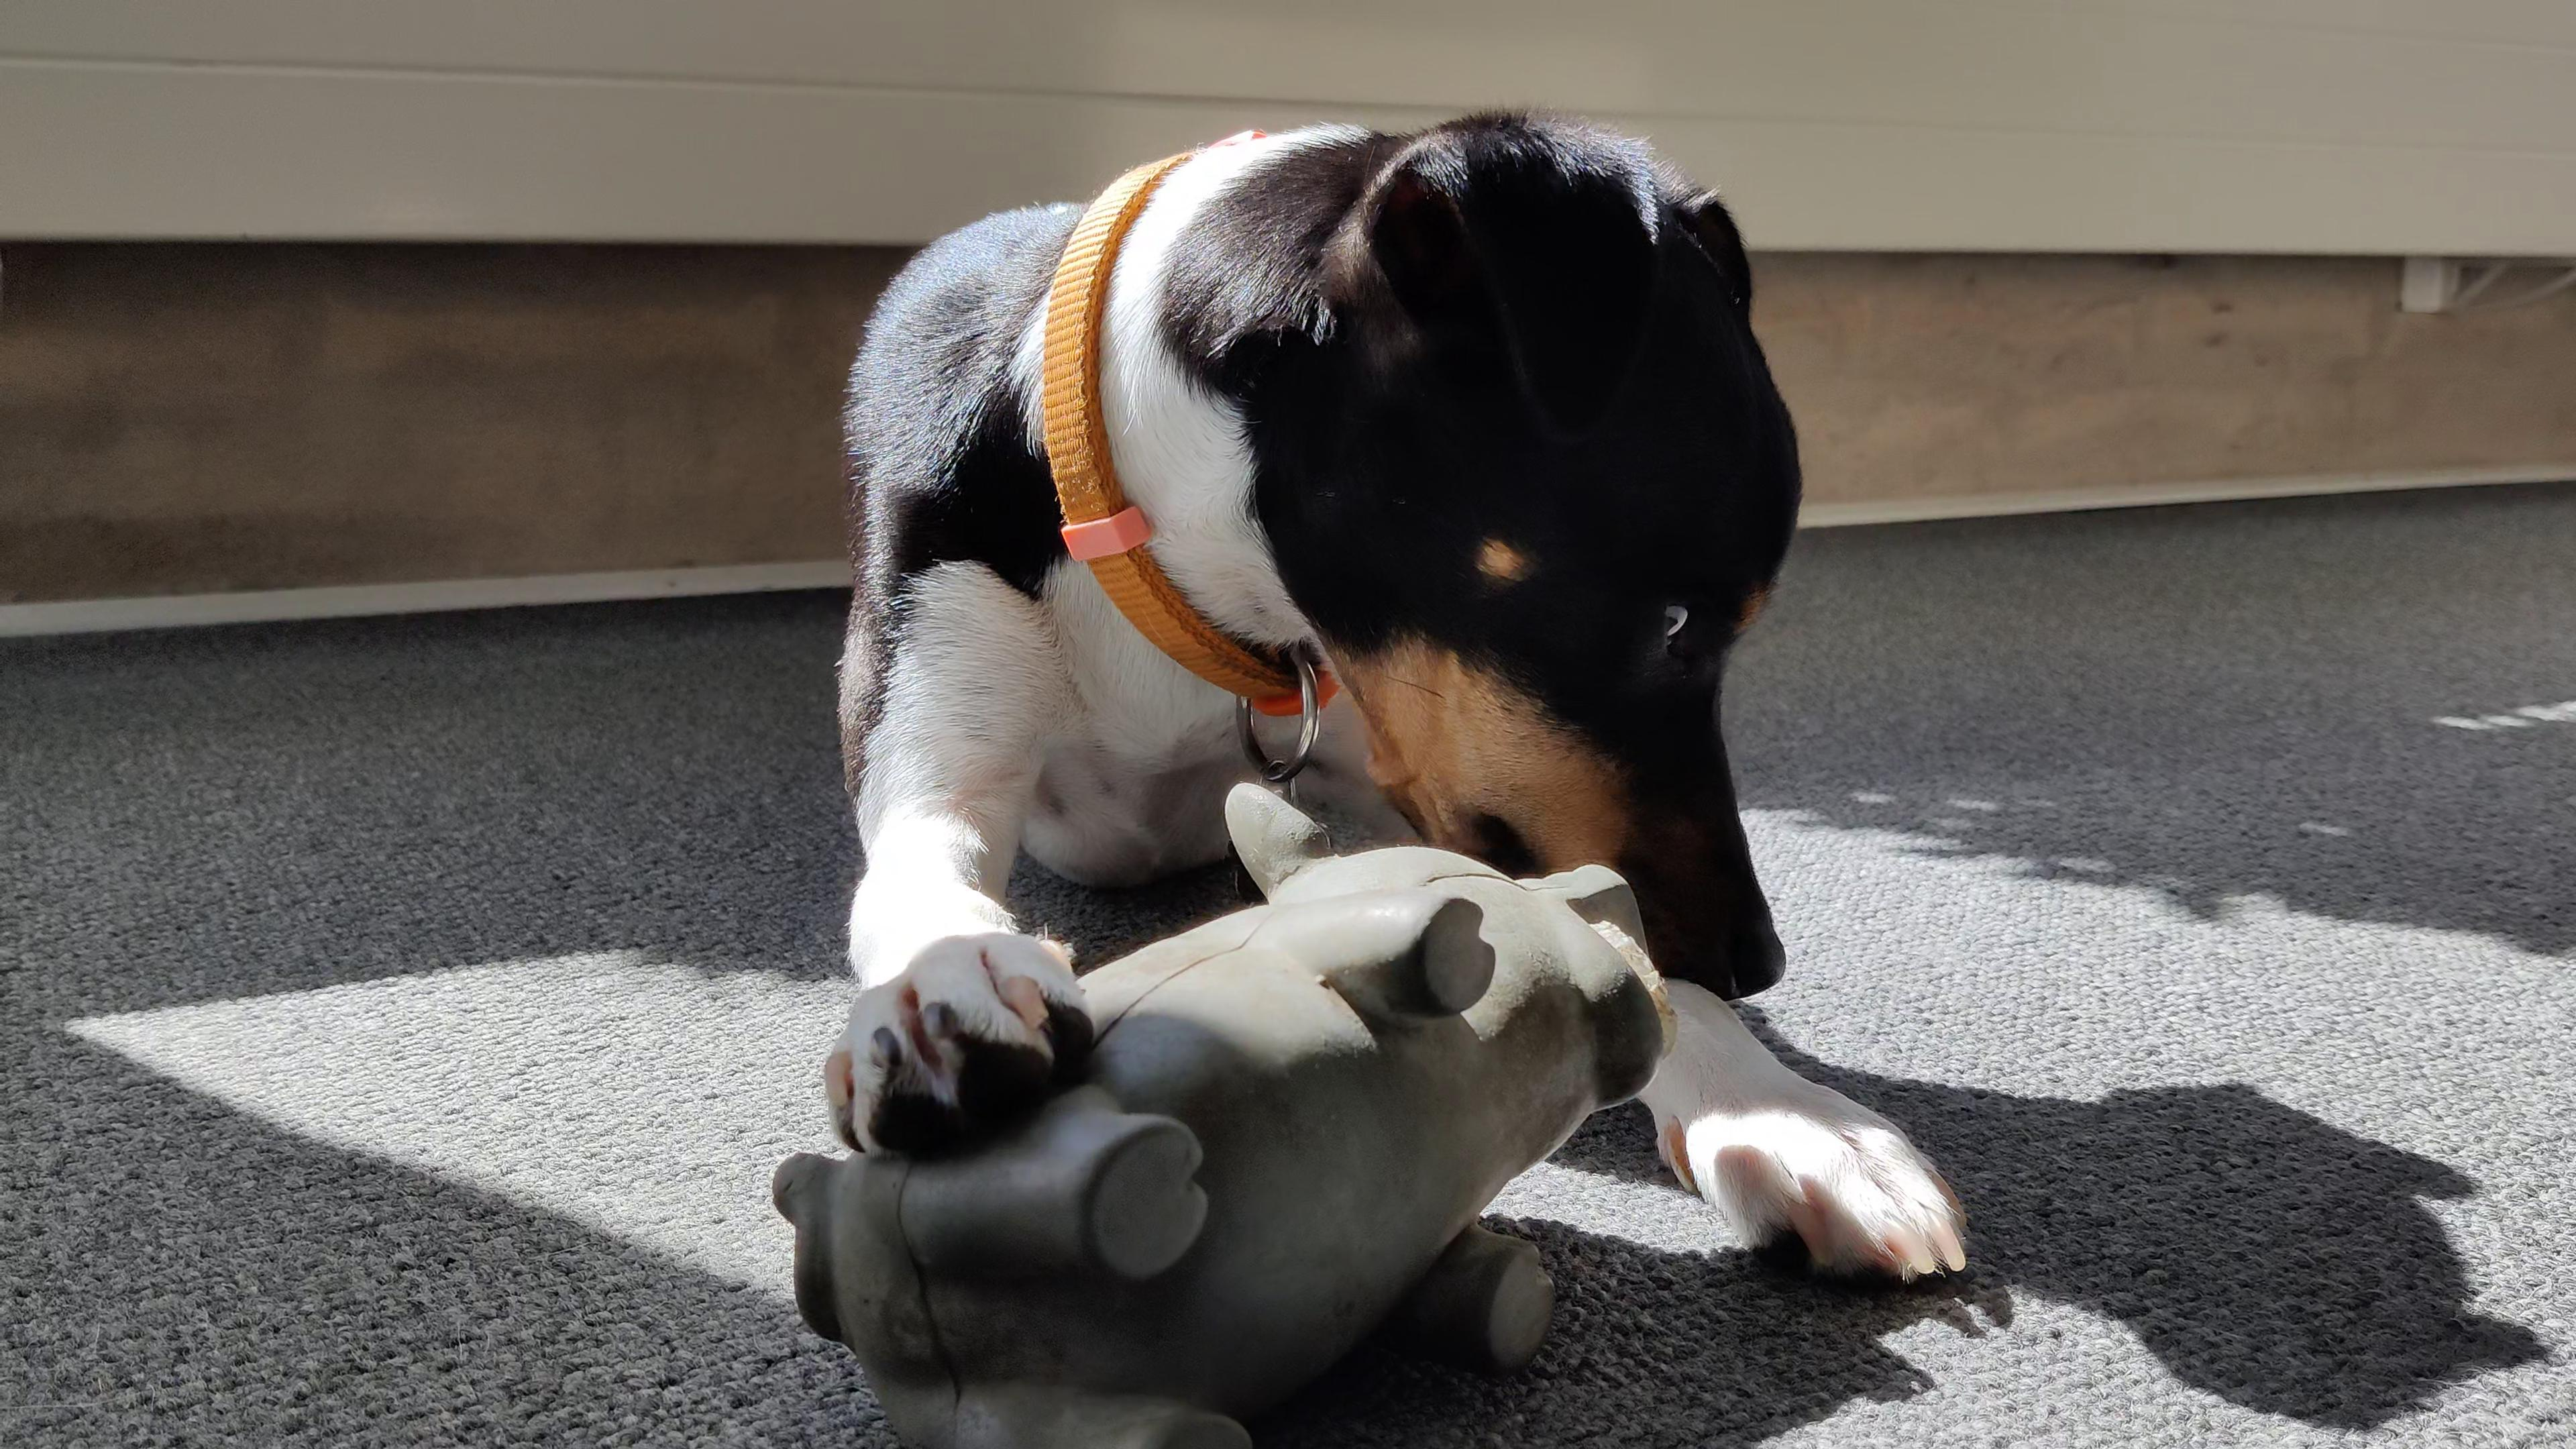Dog: (814, 87, 2005, 1295)
